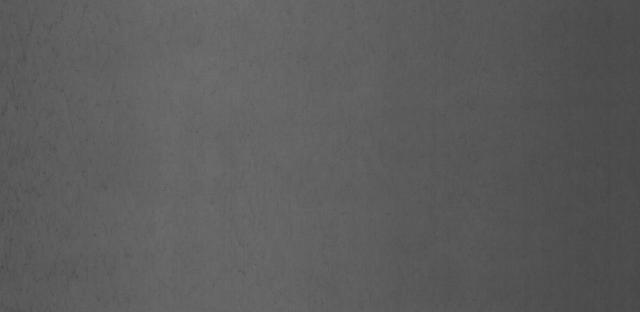silk_spot: (8, 40, 115, 216)
